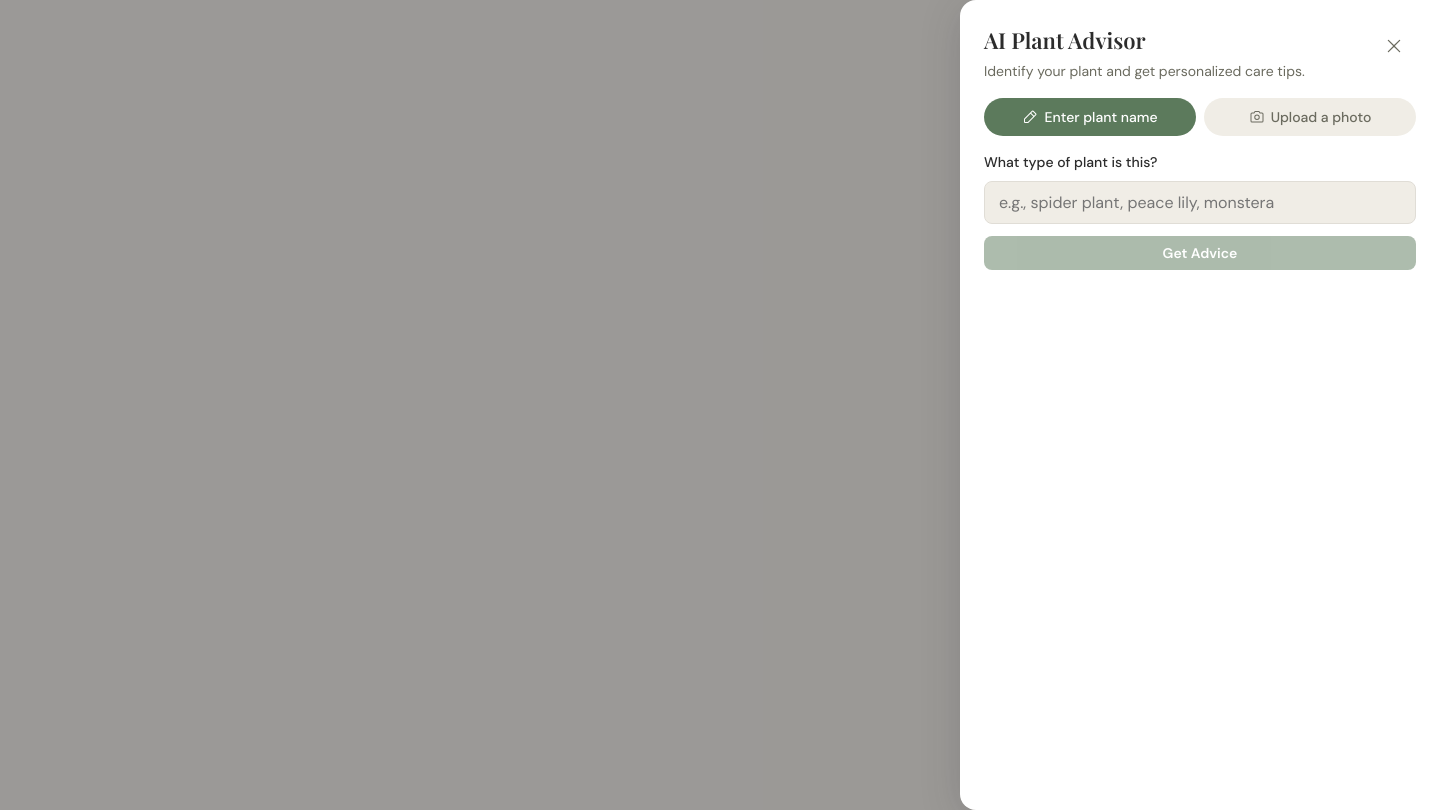
Scenario: AIAdvicePanel — T-080 Image Upload Flow › switches to upload tab and shows upload zone
Step 1. Click the tab "Upload a photo" → (1310, 117), box 1204,98 -> 1416,136
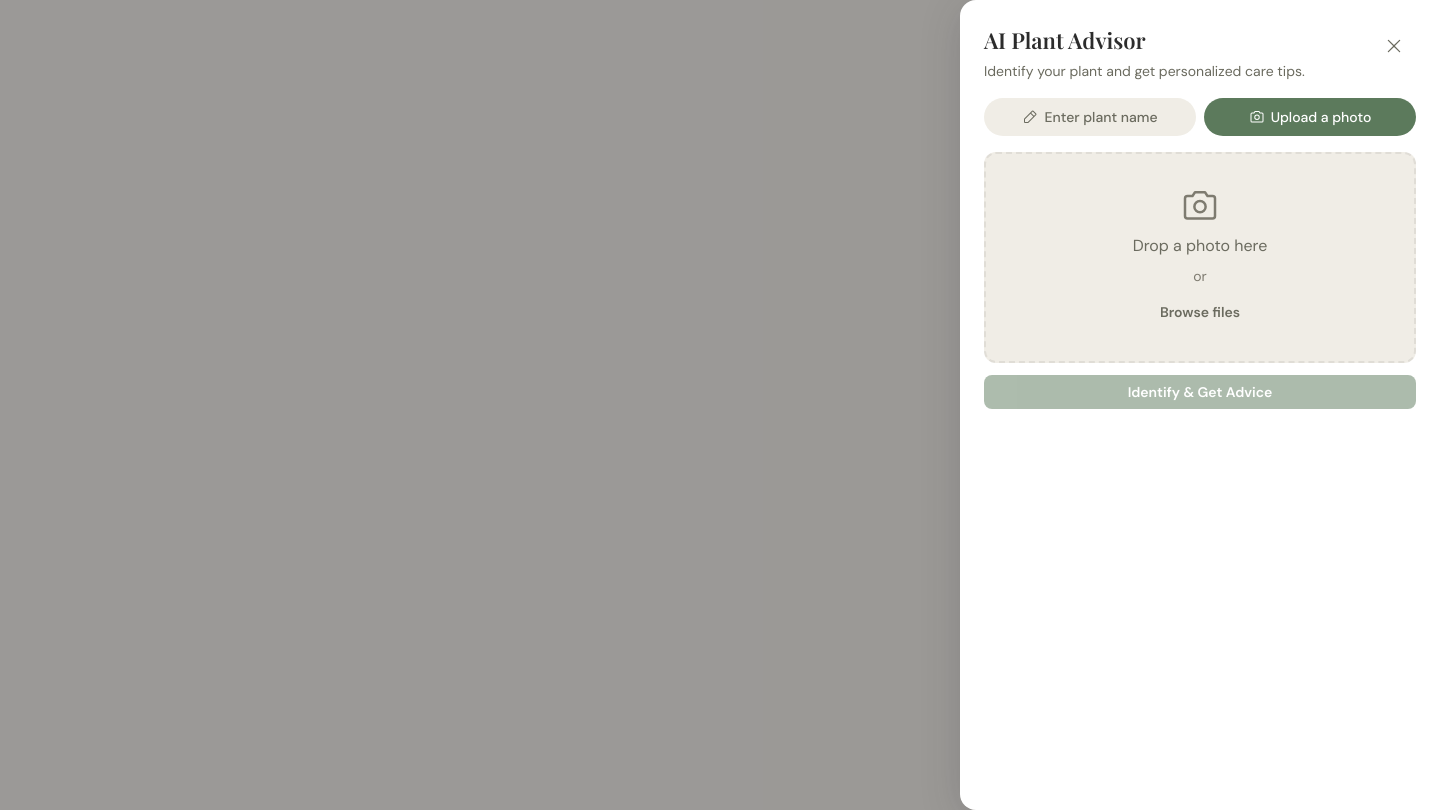
Expected: the text "Drop a photo here" is shown, 1133,234 -> 1267,258
Expected: the button "Browse files" is shown, 1140,295 -> 1260,329
